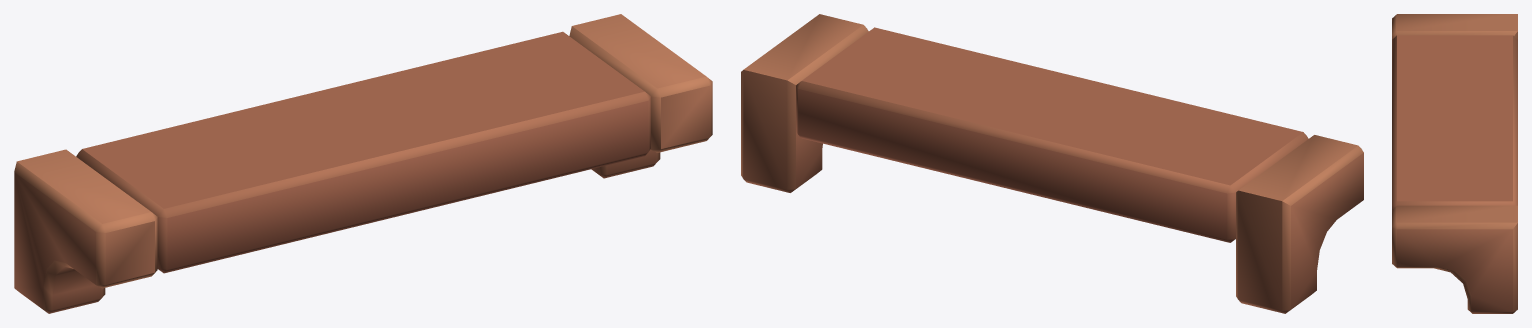
File: shelf.glb
The picture shows the model from 3 angles, left to right: view 1: azimuth 30°, elevation 25°; view 2: azimuth 150°, elevation 25°; view 3: azimuth 270°, elevation 25°; orthographic projection. The views are drawn at different scales.
Visible parts, largest first — view 1: shelf_A_big; view 2: shelf_A_big; view 3: shelf_A_big.
Boxes of the visible parts, box(x1,y1,x2,y2) form: shelf_A_big: box(14, 14, 712, 313); shelf_A_big: box(741, 14, 1363, 313); shelf_A_big: box(1392, 14, 1517, 313).
Bounding box in the file's own units: 2 × 0.4 × 0.5.
1 material, 1 textured.
